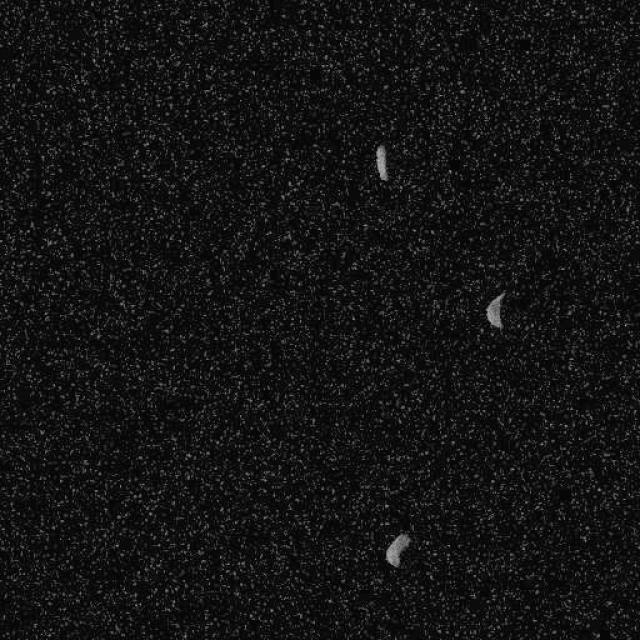D2: (384, 531, 411, 569), (484, 290, 506, 329), (374, 142, 388, 182)
